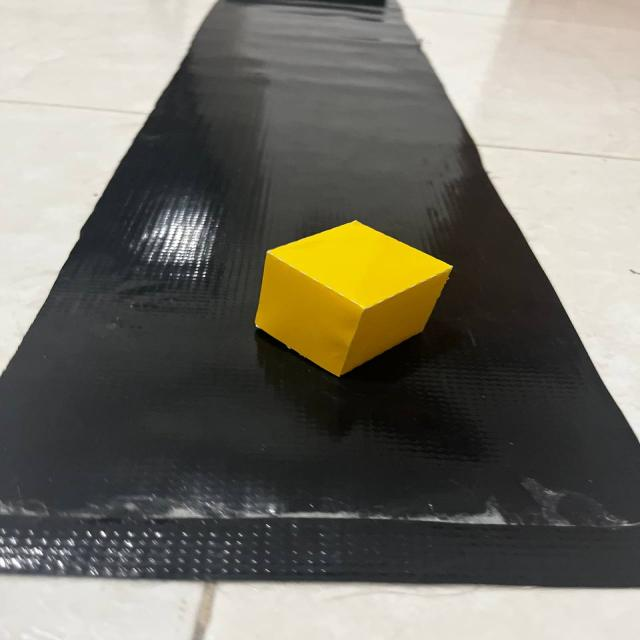Amarillo: (238, 212, 472, 413)
